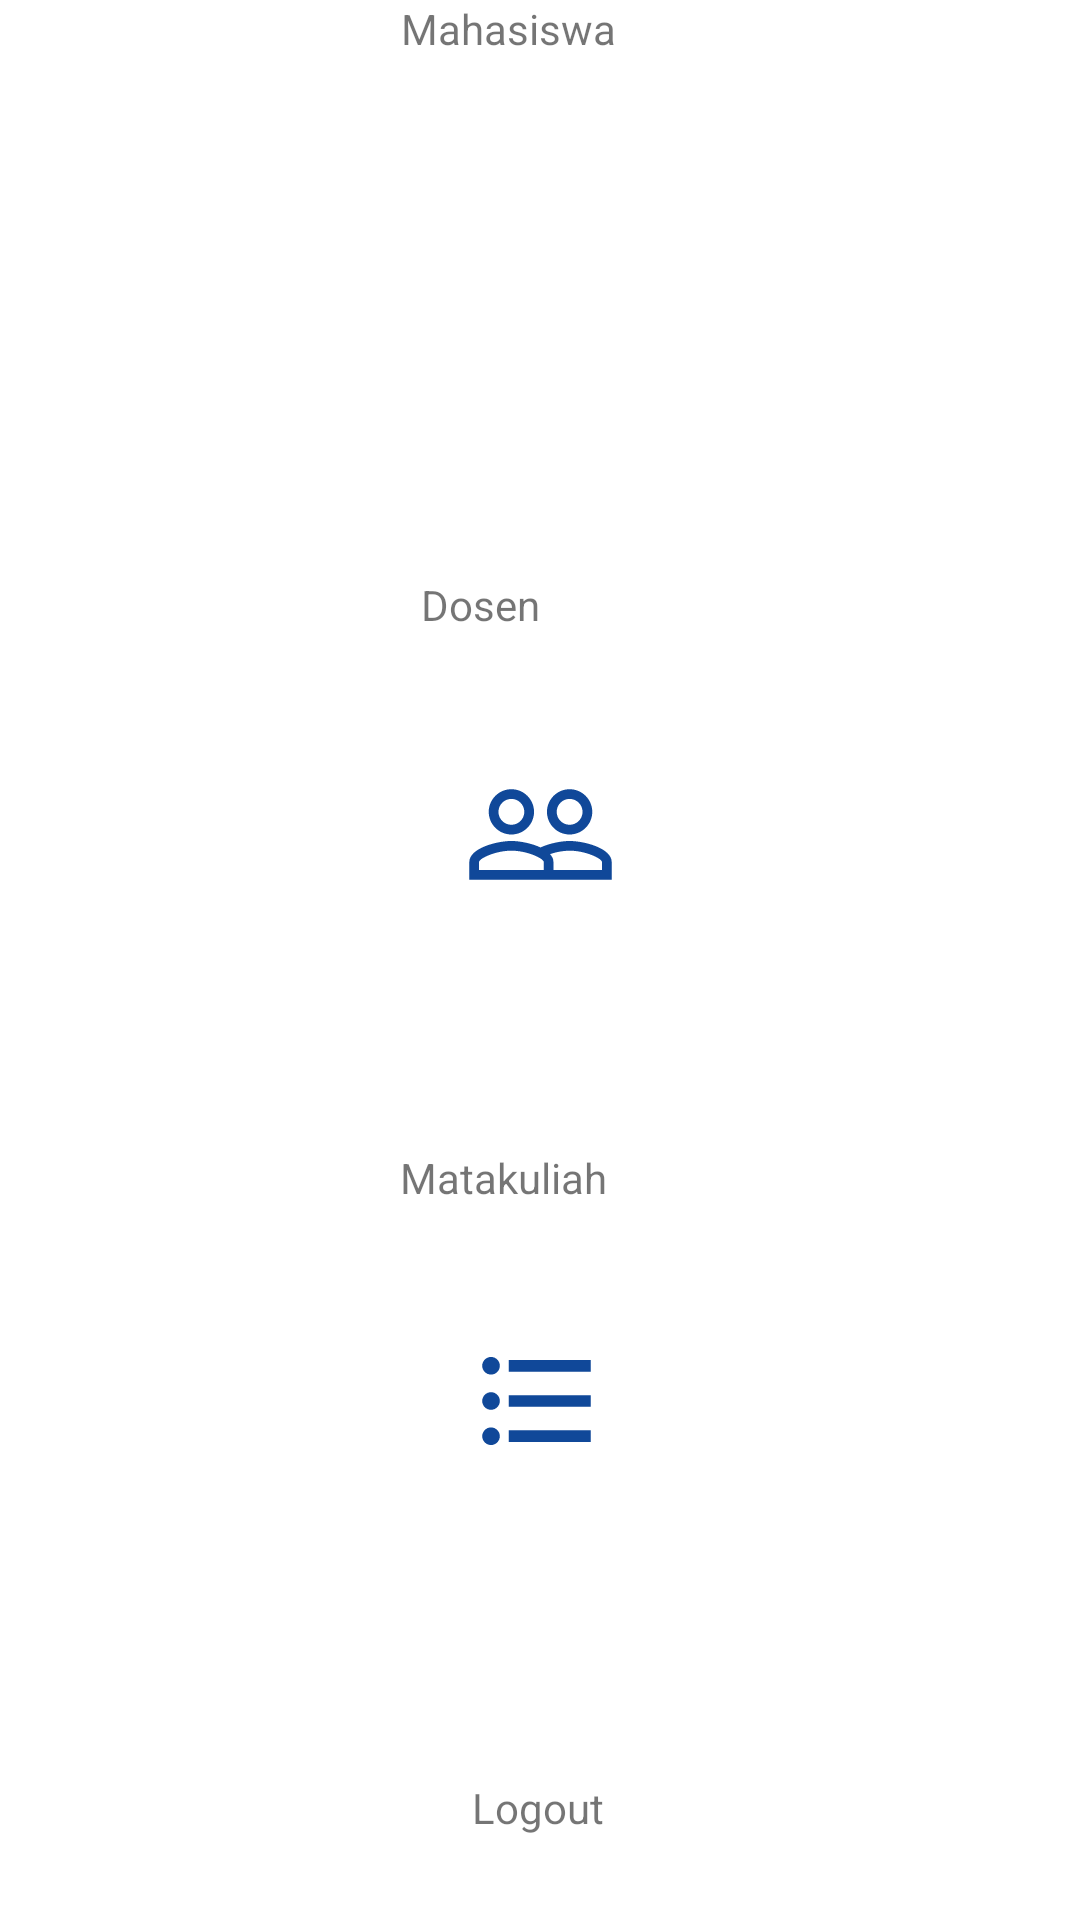

Where icons sit on this 1080w x 1920h app screen, as (x1, y1, x2, y2):
personmatkul: (482, 1357, 591, 1445)
